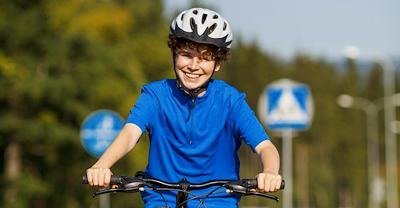With Helmet: (165, 6, 236, 94)
